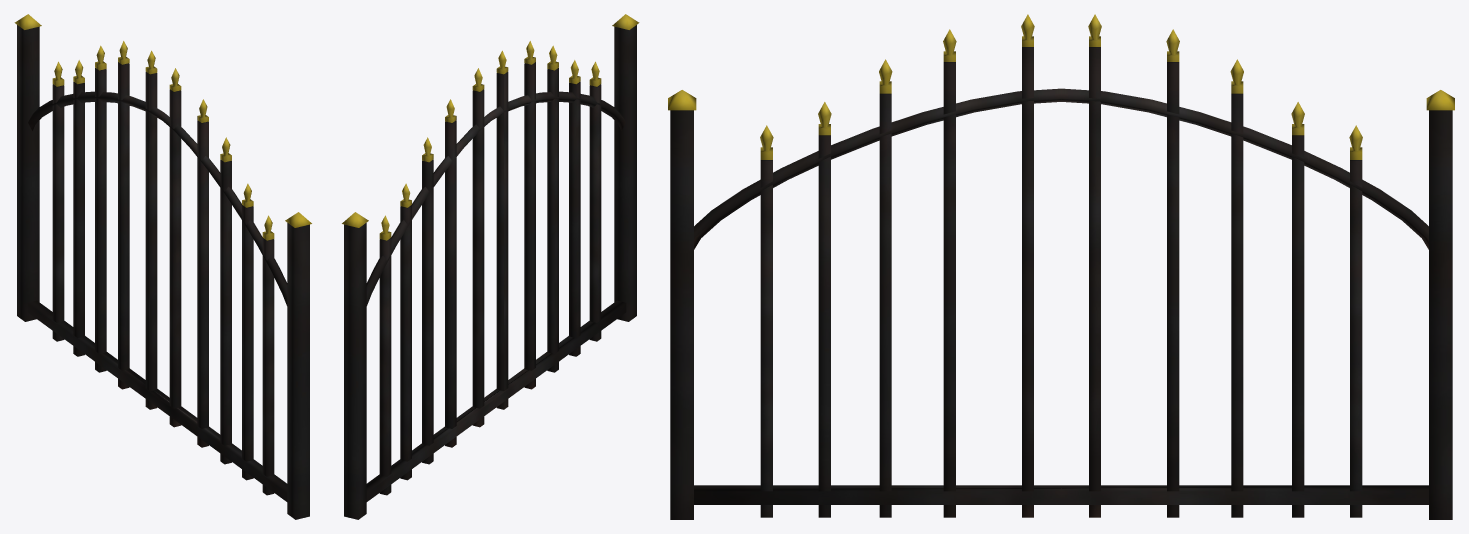
Rendered from MetalFence.fbx.
3 renders of one model, left to right at view 1: azimuth 30°, elevation 25°; view 2: azimuth 150°, elevation 25°; view 3: azimuth 270°, elevation 25°, orthographic. The views are drawn at different scales.
Parts seen in each view (by area): view 1: MetalFence; view 2: MetalFence; view 3: MetalFence.
Boxes of the visible parts, x1,y1,x2,y2 form: MetalFence: [14, 14, 311, 519]; MetalFence: [342, 14, 639, 519]; MetalFence: [668, 14, 1454, 519].
Bounding box in the file's own units: 58.09 × 1132 × 1611.
